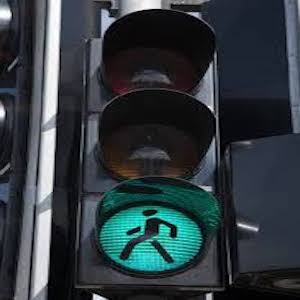green: (115, 204, 190, 272)
